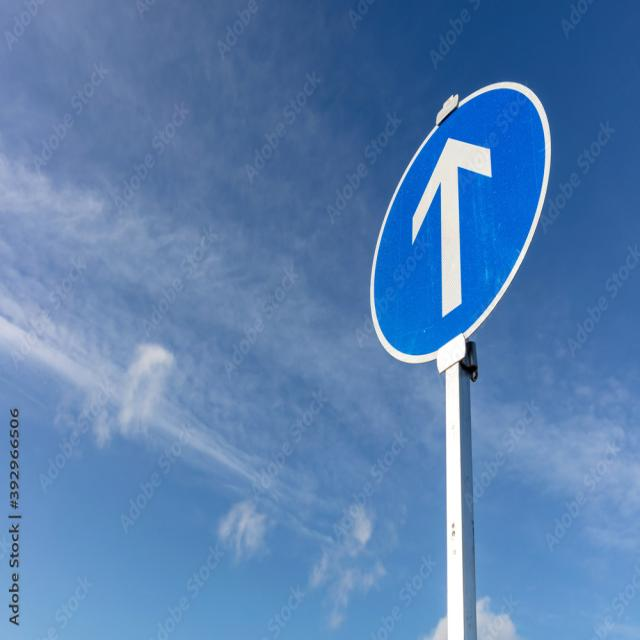STRAIGHT: (371, 83, 550, 362)
